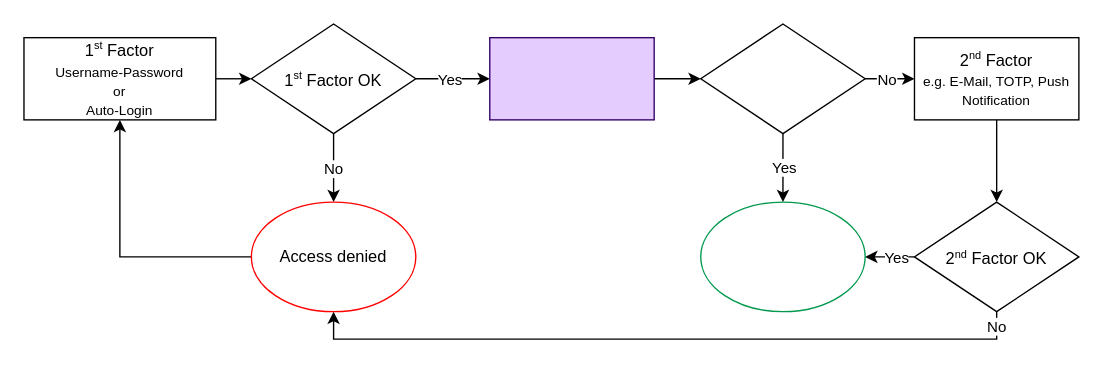
This 1103x374 diagram has some shape labels left out. Each missing label, with the centre of its shape:
"Access granted" goes at point (782, 256).
"Context Check sorbay_risk" goes at point (571, 78).
"Context OK?" goes at point (782, 78).
